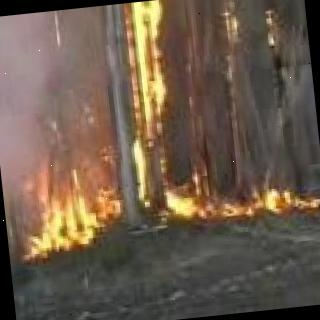fire: (9, 154, 320, 252), (126, 0, 182, 164), (205, 0, 250, 91), (254, 10, 288, 56)
